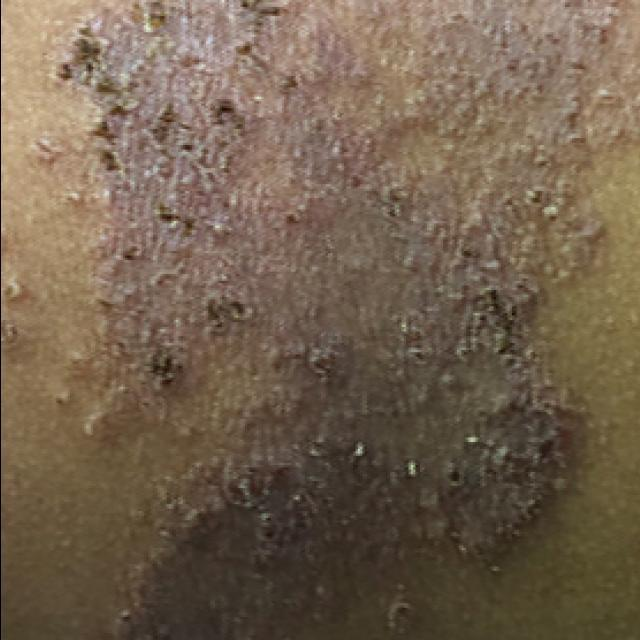Psoriasis: (14, 0, 585, 640)
